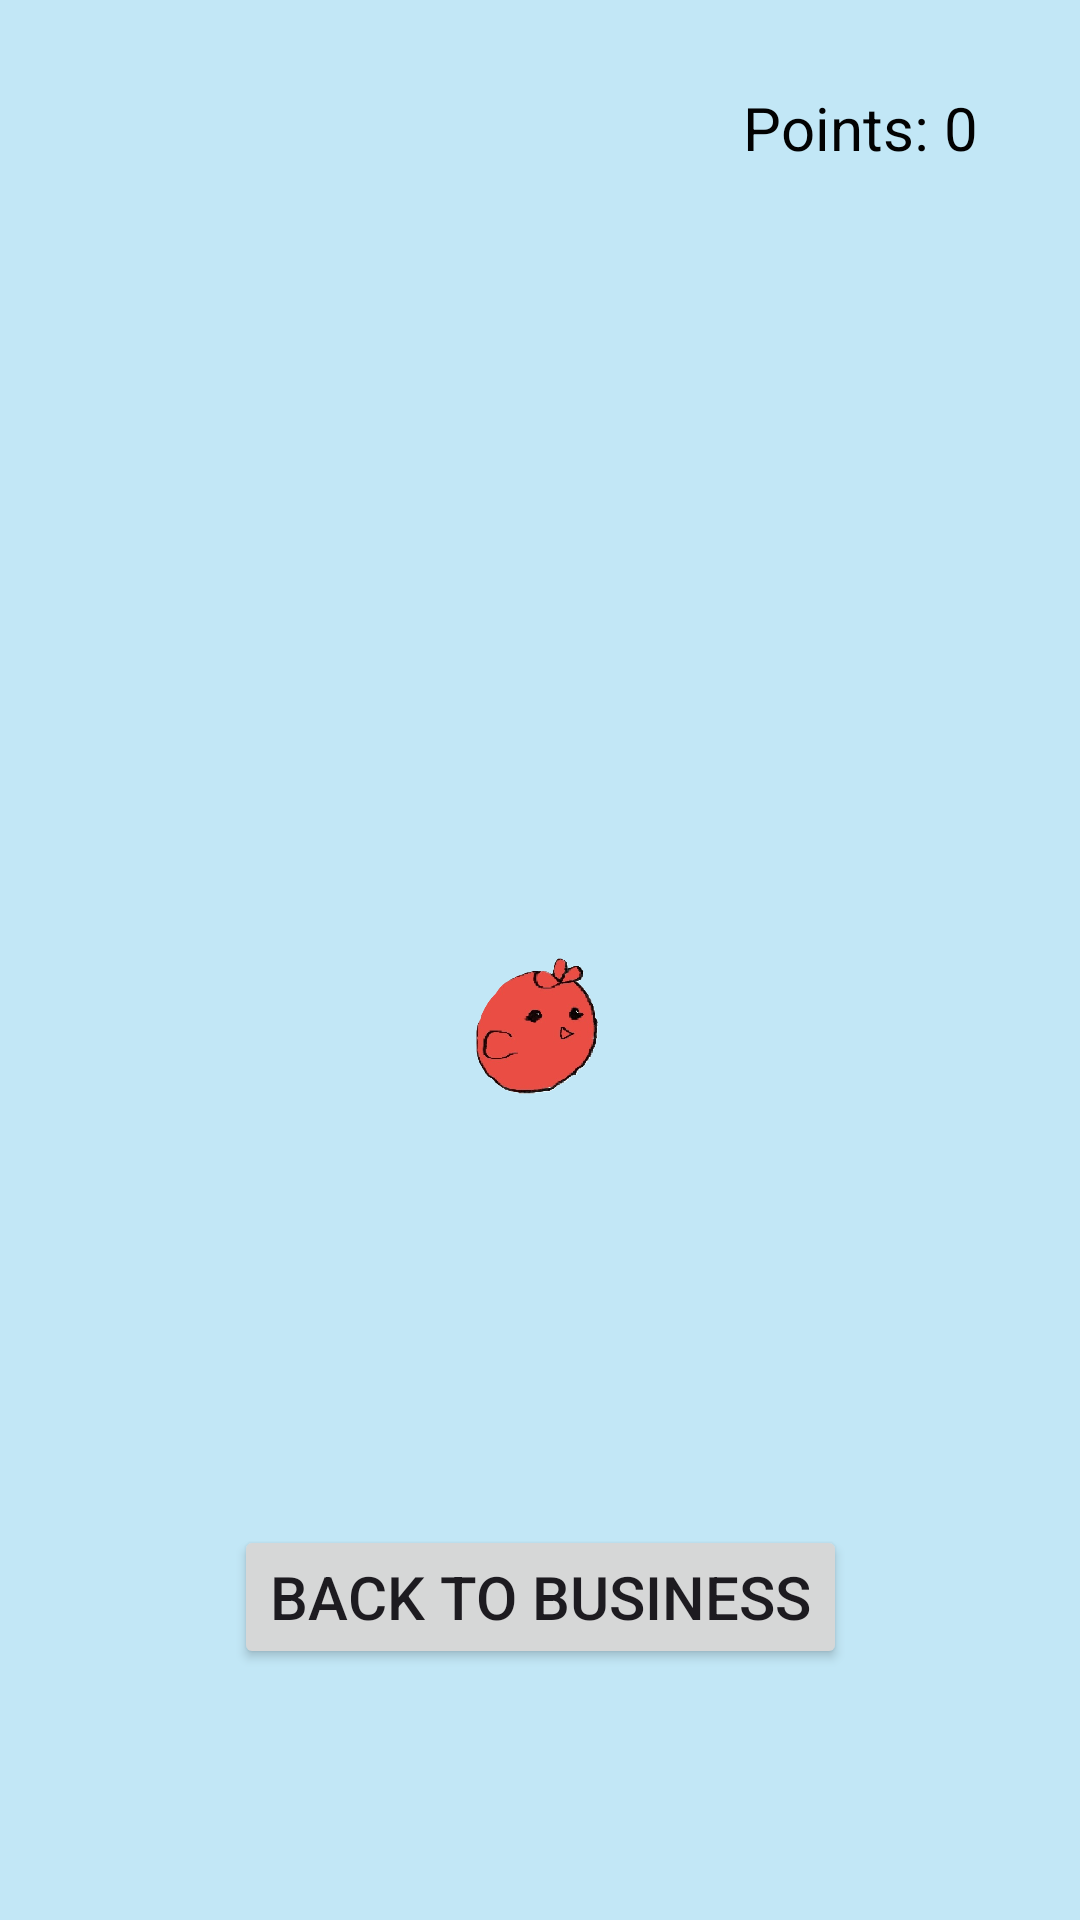

Named icons in this screenshot (1080x1920) and their bounding boxes, (x1, y1, x2, y2):
game bird: (476, 958, 598, 1094)
